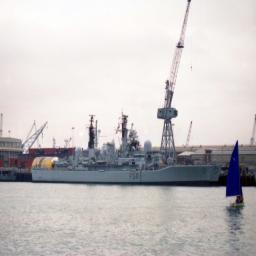Fragata: (30, 105, 227, 184)
